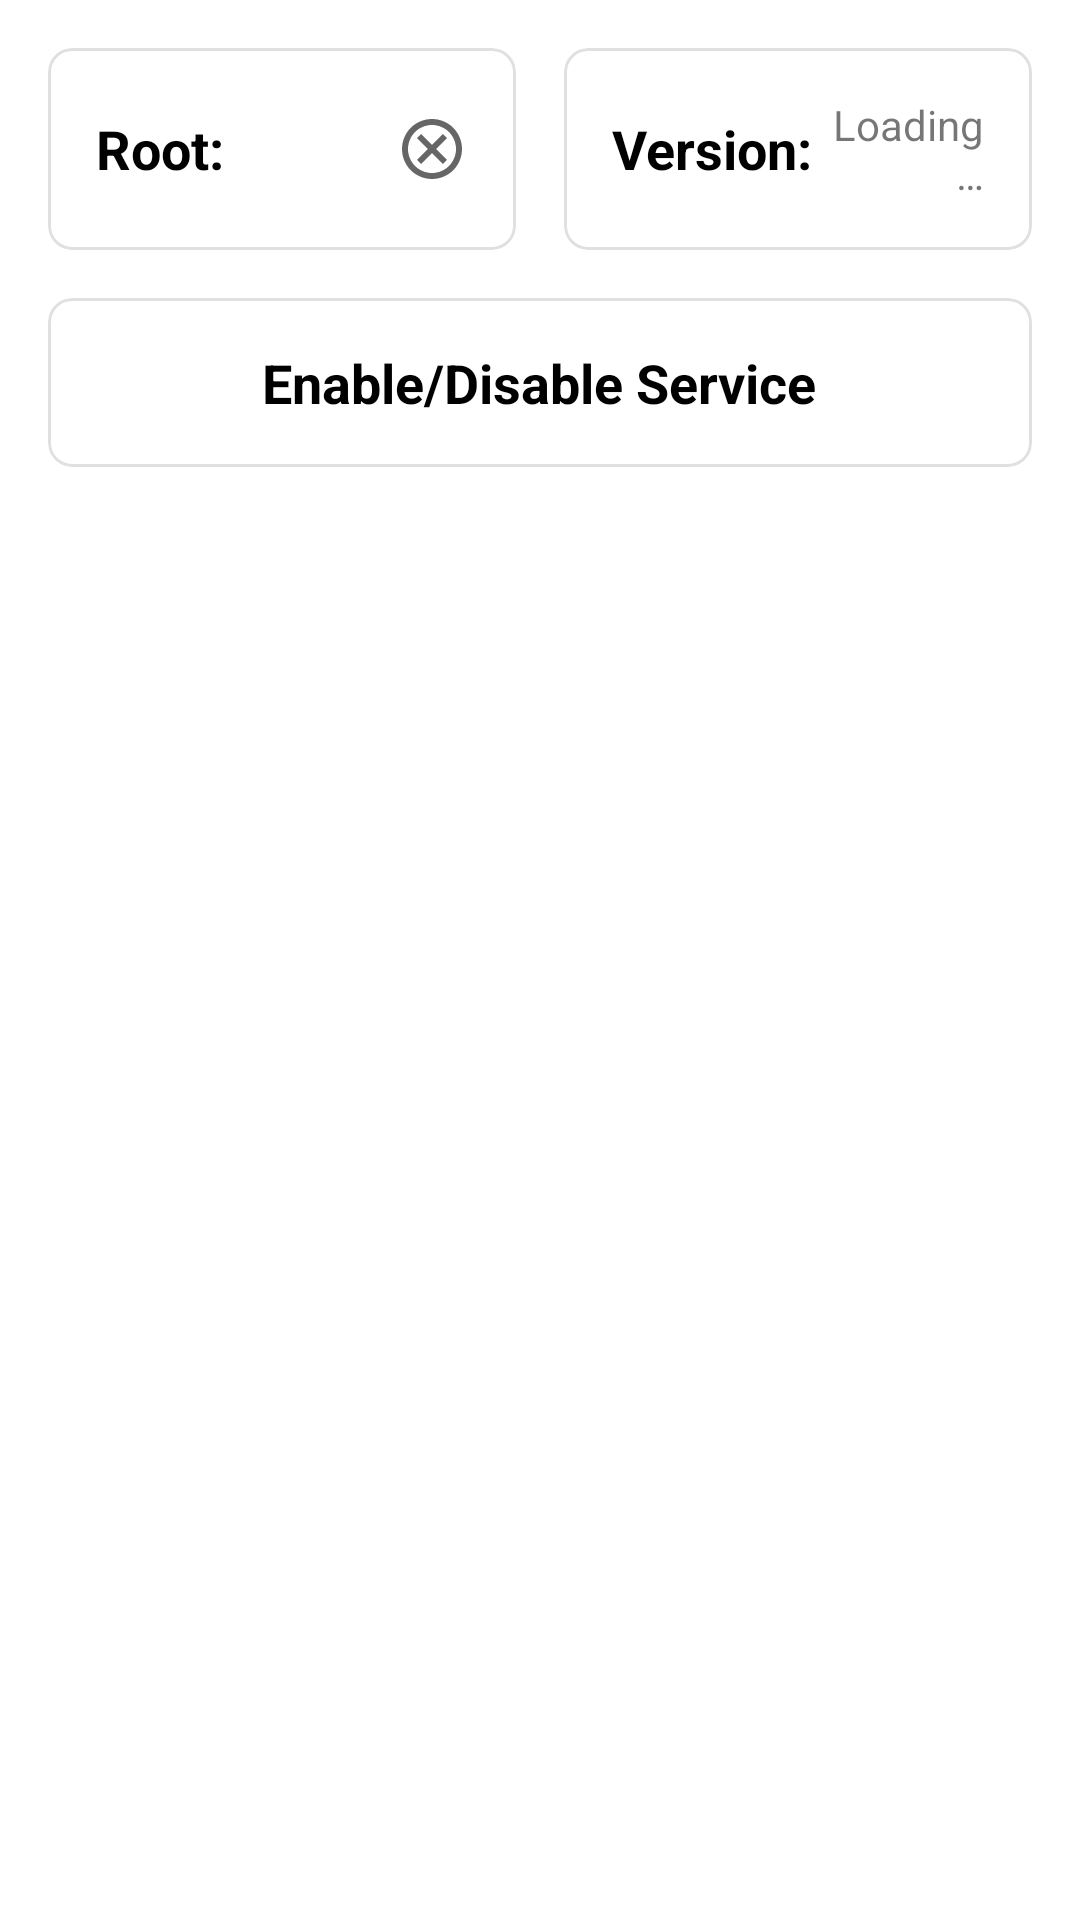

Icons on this 1080 x 1920 Android screen, each with the point to tap as (x,y):
cancel: (432,149)
